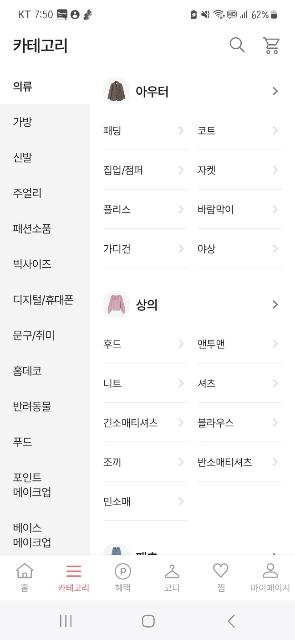Icon: (264, 36, 280, 54), (114, 563, 132, 579), (17, 562, 33, 578), (213, 563, 228, 577), (231, 38, 245, 52), (67, 564, 81, 578), (165, 564, 179, 578), (264, 564, 278, 578), (272, 165, 278, 175), (178, 204, 184, 213), (178, 244, 184, 253), (272, 204, 278, 213), (178, 166, 184, 174), (178, 498, 184, 506), (179, 125, 183, 135), (274, 244, 278, 254), (273, 125, 277, 135), (274, 300, 278, 310), (273, 378, 277, 388), (273, 339, 277, 349), (180, 379, 184, 388), (179, 458, 183, 467), (273, 86, 277, 94), (180, 340, 184, 348), (179, 419, 183, 427), (274, 458, 278, 466), (274, 419, 278, 427)
Image: (104, 290, 130, 318), (105, 78, 129, 104)
List: (0, 64, 90, 554)
Text: (13, 473, 51, 497), (14, 524, 50, 548), (14, 39, 66, 53), (14, 294, 72, 306), (198, 458, 252, 467), (104, 419, 158, 427), (14, 331, 54, 341), (14, 223, 50, 234), (137, 85, 169, 97), (104, 165, 142, 175), (14, 401, 50, 411), (199, 205, 234, 215), (199, 418, 234, 428), (13, 260, 51, 268), (252, 584, 290, 592), (13, 188, 41, 198), (14, 366, 42, 376), (136, 299, 158, 311), (104, 496, 130, 506), (199, 339, 225, 349), (58, 584, 88, 592), (104, 204, 130, 213), (104, 244, 130, 253), (14, 116, 32, 128), (14, 81, 32, 91), (14, 437, 32, 447), (104, 378, 122, 388), (104, 126, 120, 136), (105, 339, 121, 349), (199, 244, 216, 253), (14, 154, 32, 162), (199, 379, 215, 388), (199, 127, 216, 135), (199, 166, 215, 174), (105, 458, 121, 466), (164, 584, 180, 592), (116, 585, 130, 591), (219, 582, 225, 592), (22, 583, 28, 591)
TextImageButton: (250, 563, 290, 591), (57, 564, 89, 592), (113, 562, 131, 592), (17, 564, 33, 592), (164, 564, 180, 592), (213, 564, 228, 592)
Toolbar: (0, 27, 295, 63)
UpperTaskBar: (0, 0, 295, 26)
